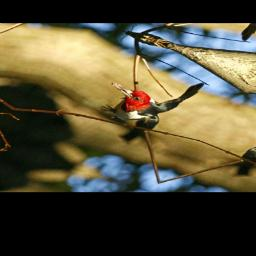Woodpecker: (69, 58, 216, 150)
